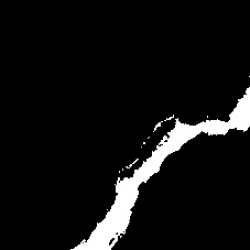crack: (75, 88, 249, 248)
